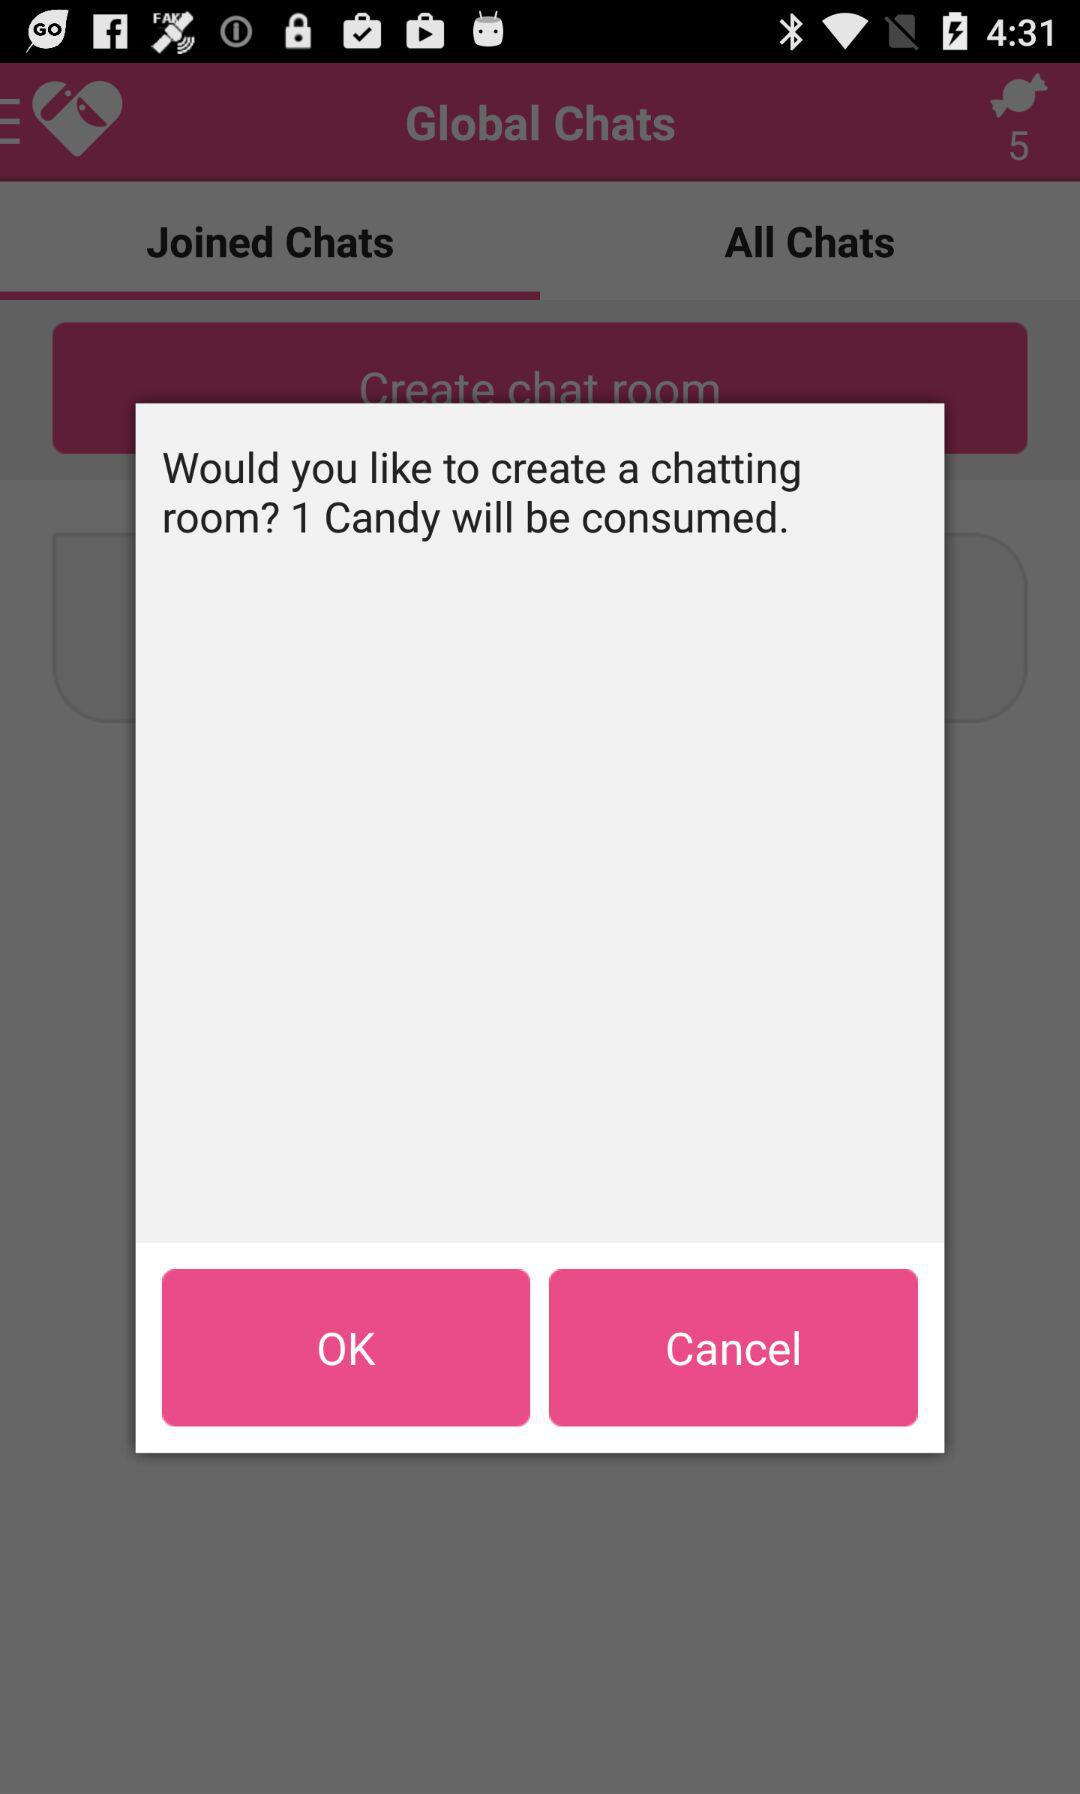Image: (32, 82, 124, 160), (988, 72, 1048, 120)
Modal: (135, 402, 945, 1454)
Text: (163, 450, 801, 545), (406, 103, 676, 144), (146, 226, 395, 259), (724, 226, 896, 260), (1008, 129, 1029, 161)
TextButton: (550, 1269, 919, 1428), (161, 1269, 530, 1428)
UpperTaskBar: (1, 1, 1080, 64)
